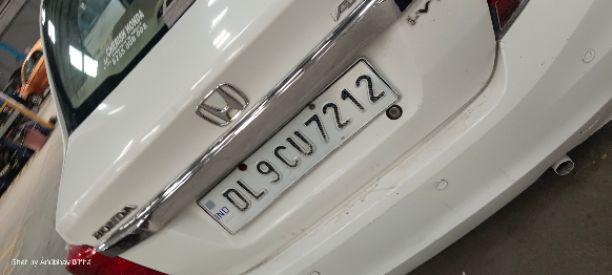license_plate: (40, 0, 610, 274), (195, 55, 402, 235)
